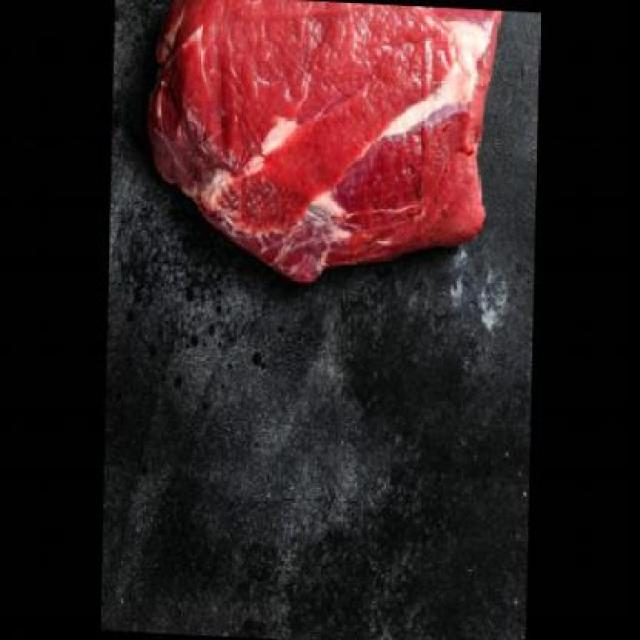beef: (142, 0, 513, 295)
